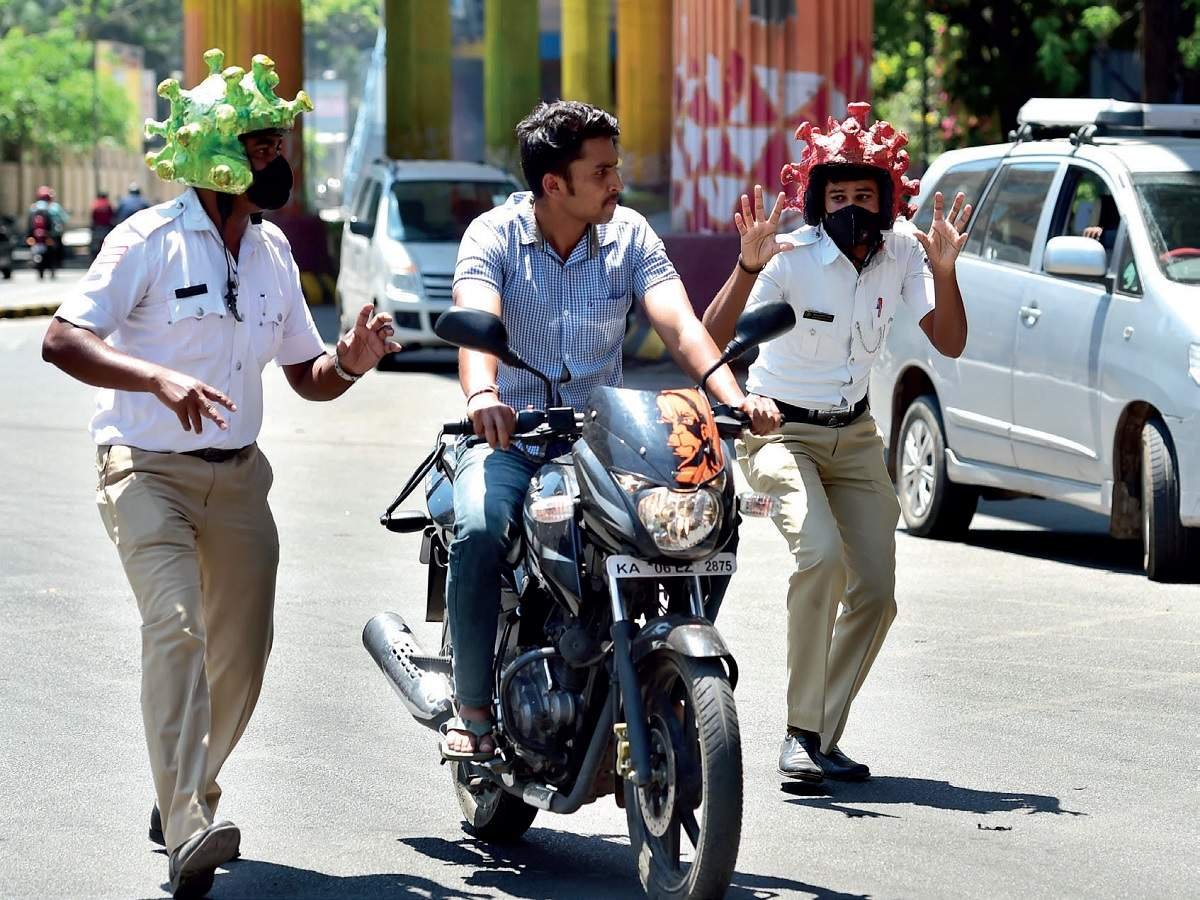bike: (392, 393, 774, 900)
car: (920, 105, 1200, 572), (343, 155, 466, 349)
person: (40, 46, 403, 894), (444, 98, 779, 751), (711, 101, 968, 783)
